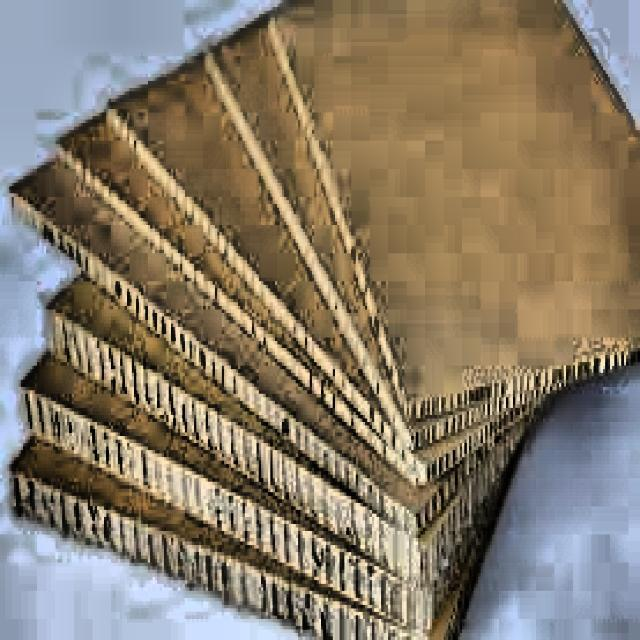cardboard: (7, 0, 638, 636)
